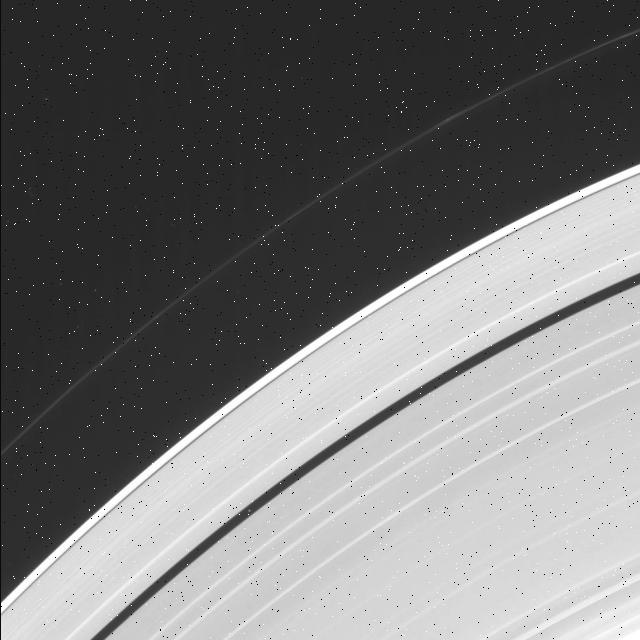Saturn: (0, 8, 640, 640)
